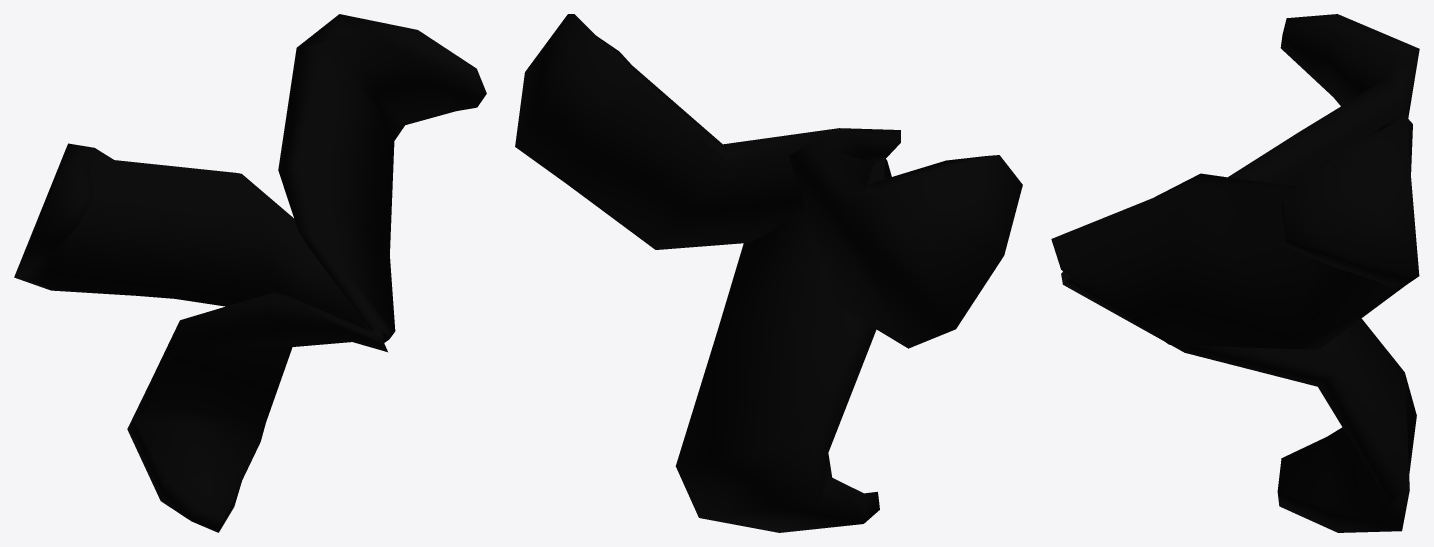
Rendered from Corn Sprout.fbx.
3 renders of one model, left to right at view 1: azimuth 30°, elevation 25°; view 2: azimuth 150°, elevation 25°; view 3: azimuth 270°, elevation 25°, orthographic. The views are drawn at different scales.
Parts seen in each view (by area): view 1: Cylinder; view 2: Cylinder; view 3: Cylinder.
Part boxes in pixels (box(x1,y1,x2,y2)): Cylinder: box(14, 14, 486, 532); Cylinder: box(515, 14, 1022, 532); Cylinder: box(1051, 14, 1419, 532).
Size of the model in its own units: 751 by 714 by 486.
